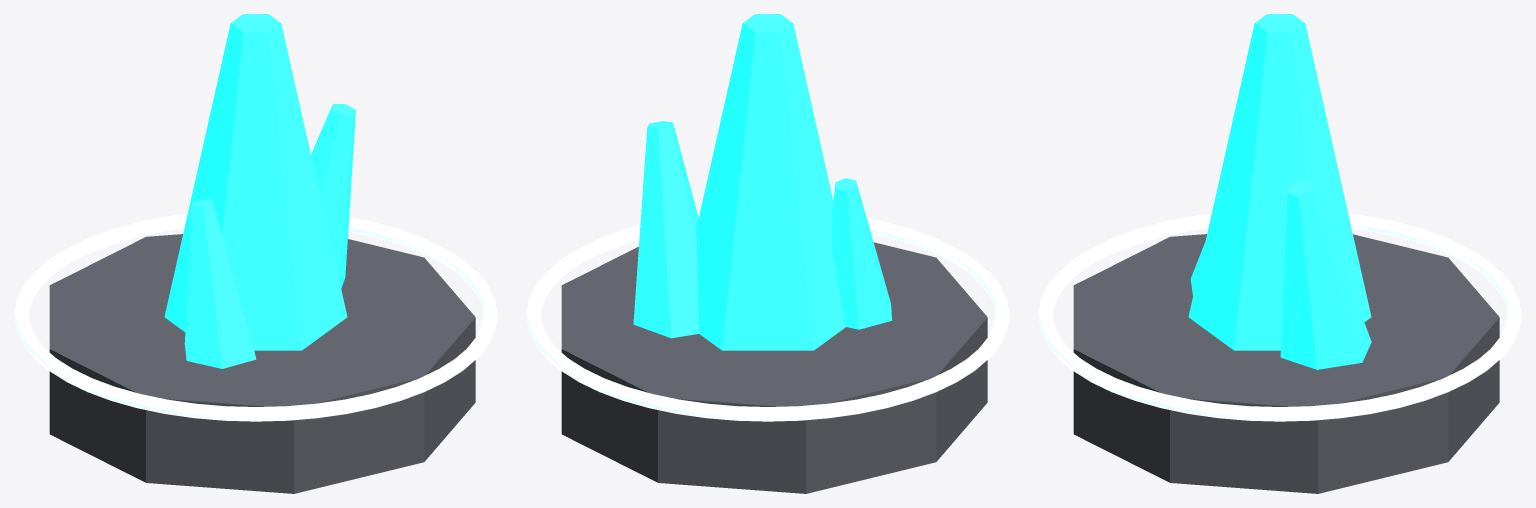
Rendered from crystal_prop.glb.
3 views of the same model, side by side, from view 1: azimuth 30°, elevation 25°; view 2: azimuth 150°, elevation 25°; view 3: azimuth 270°, elevation 25° (orthographic).
Parts seen in each view (by area): view 1: Prop_Base, Prop_Crystal_0, Prop_Ring, Prop_Crystal_2, Prop_Crystal_1; view 2: Prop_Base, Prop_Crystal_0, Prop_Ring, Prop_Crystal_1, Prop_Crystal_2; view 3: Prop_Base, Prop_Crystal_0, Prop_Ring, Prop_Crystal_1.
Boxes of the visible parts, bbox=[...] form: Prop_Base: bbox=[49, 234, 475, 493]; Prop_Crystal_0: bbox=[164, 14, 347, 350]; Prop_Ring: bbox=[14, 213, 497, 421]; Prop_Crystal_2: bbox=[184, 199, 256, 368]; Prop_Crystal_1: bbox=[311, 103, 355, 288]; Prop_Base: bbox=[561, 242, 987, 493]; Prop_Crystal_0: bbox=[695, 14, 845, 350]; Prop_Ring: bbox=[526, 213, 1009, 421]; Prop_Crystal_1: bbox=[633, 121, 698, 338]; Prop_Crystal_2: bbox=[831, 178, 892, 329]; Prop_Base: bbox=[1073, 234, 1499, 493]; Prop_Crystal_0: bbox=[1188, 14, 1371, 350]; Prop_Ring: bbox=[1038, 213, 1521, 421]; Prop_Crystal_1: bbox=[1280, 180, 1371, 369].
Bounding box in the file's own units: 2.31 × 2.1 × 2.31.
